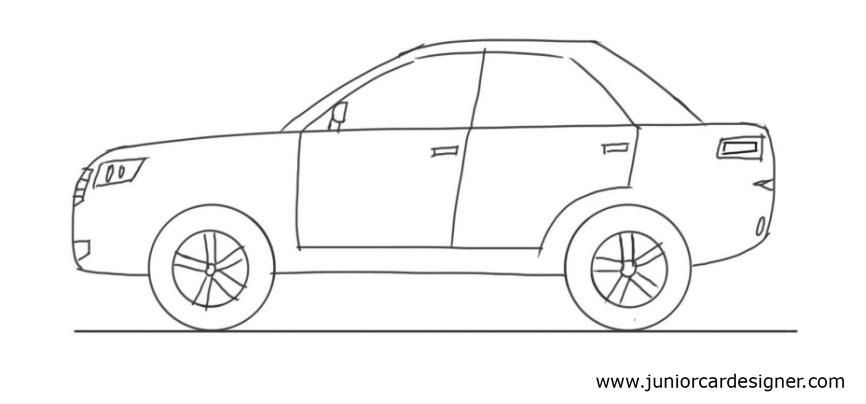car: (52, 17, 784, 344)
